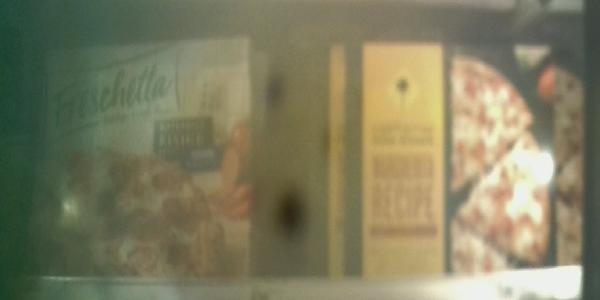pizza1: (329, 39, 595, 278), (34, 34, 258, 275)
